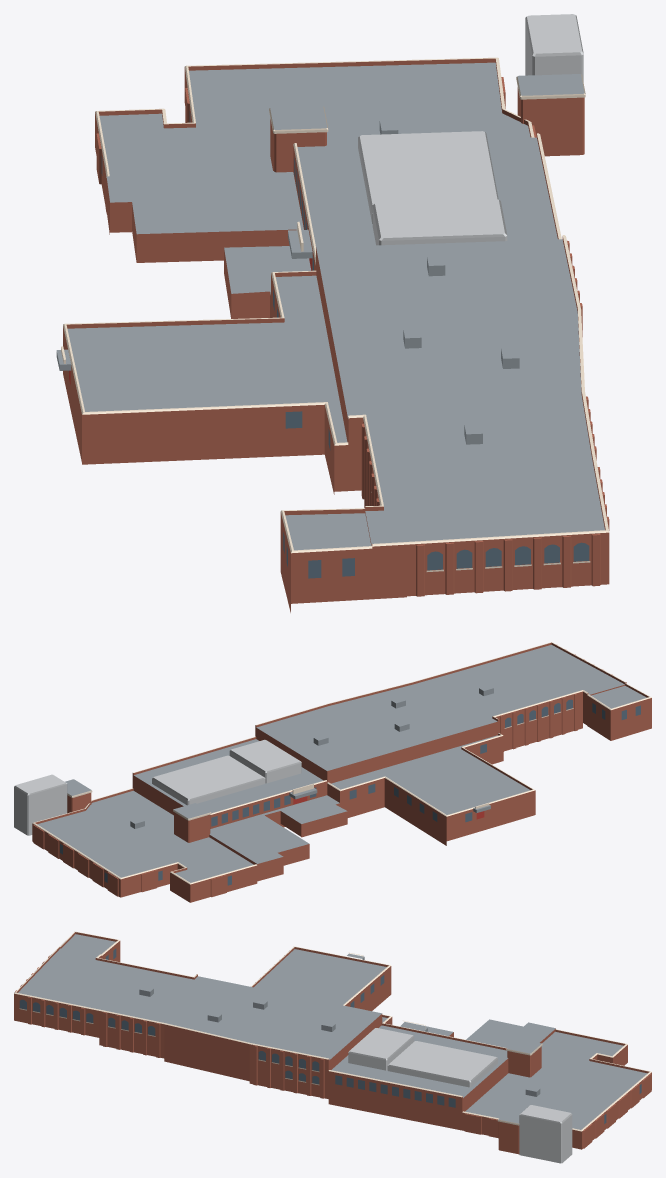
Rendered from detail.glb.
3 renders of one model, top to bottom at view 1: azimuth 30°, elevation 25°; view 2: azimuth 150°, elevation 25°; view 3: azimuth 270°, elevation 25°, orthographic. The views are drawn at different scales.
Visible parts, largest first — view 1: the-fillmore-charlotte; view 2: the-fillmore-charlotte; view 3: the-fillmore-charlotte.
Part boxes in pixels (bbox=[...]): the-fillmore-charlotte: bbox=[56, 14, 609, 612]; the-fillmore-charlotte: bbox=[14, 642, 651, 902]; the-fillmore-charlotte: bbox=[14, 931, 651, 1163].
Size of the model in its own units: 118 by 14.03 by 168.
